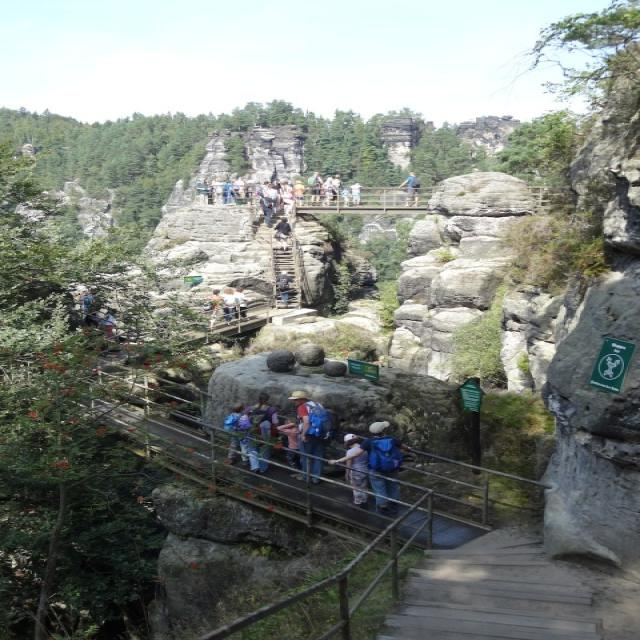body: (325, 418, 407, 511), (285, 389, 332, 485), (236, 389, 281, 474), (197, 177, 287, 205), (221, 401, 255, 466), (342, 433, 370, 508), (275, 416, 304, 478), (396, 169, 424, 208), (204, 286, 223, 327), (272, 215, 292, 251), (275, 270, 296, 304), (319, 175, 340, 207), (307, 170, 325, 207), (220, 287, 237, 326), (232, 284, 249, 320), (329, 170, 344, 202), (292, 179, 307, 210), (348, 179, 364, 207), (339, 184, 353, 207), (262, 202, 274, 227)
